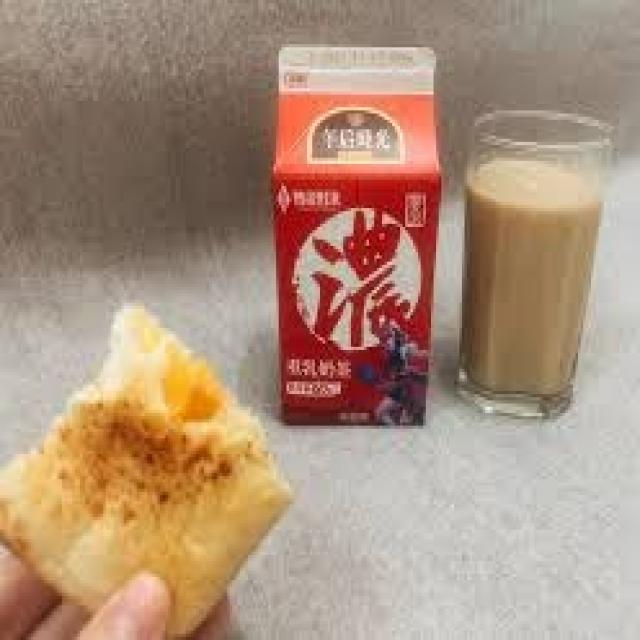Known_MilkTea: (265, 29, 437, 426)
